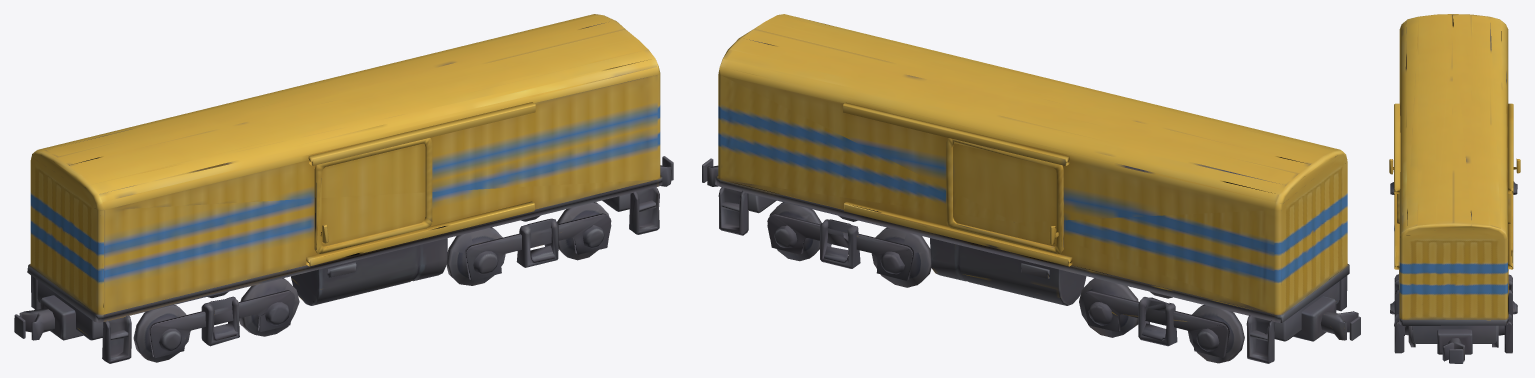
The model's file is train_wagon_freight.glb.
3 views of the same model, side by side, from view 1: azimuth 30°, elevation 25°; view 2: azimuth 150°, elevation 25°; view 3: azimuth 270°, elevation 25° (orthographic). The views are drawn at different scales.
Parts seen in each view (by area): view 1: geometry_0; view 2: geometry_0; view 3: geometry_0.
Boxes of the visible parts, bbox=[...] form: geometry_0: bbox=[14, 14, 673, 363]; geometry_0: bbox=[702, 14, 1360, 363]; geometry_0: bbox=[1389, 14, 1520, 363].
Size of the model in its own units: 0.9497 by 0.269 by 0.2153.
1 material, 1 textured.
